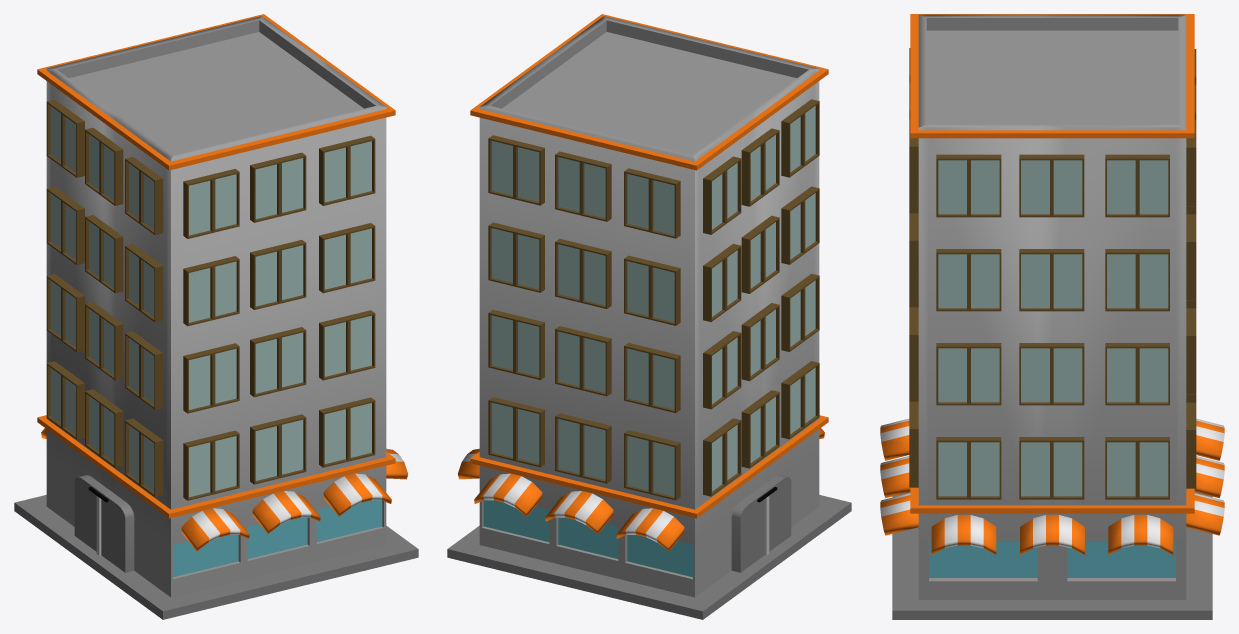
File: House8.fbx
The picture shows the model from 3 angles, left to right: view 1: azimuth 30°, elevation 25°; view 2: azimuth 150°, elevation 25°; view 3: azimuth 270°, elevation 25°; orthographic projection. The views are drawn at different scales.
Visible parts, largest first — view 1: House.008; view 2: House.008; view 3: House.008.
Part boxes in pixels (<box>): House.008: <box>14,14,418,619</box>; House.008: <box>447,14,851,619</box>; House.008: <box>880,14,1224,619</box>.
Bounding box in the file's own units: 1022 × 1638 × 1063.
